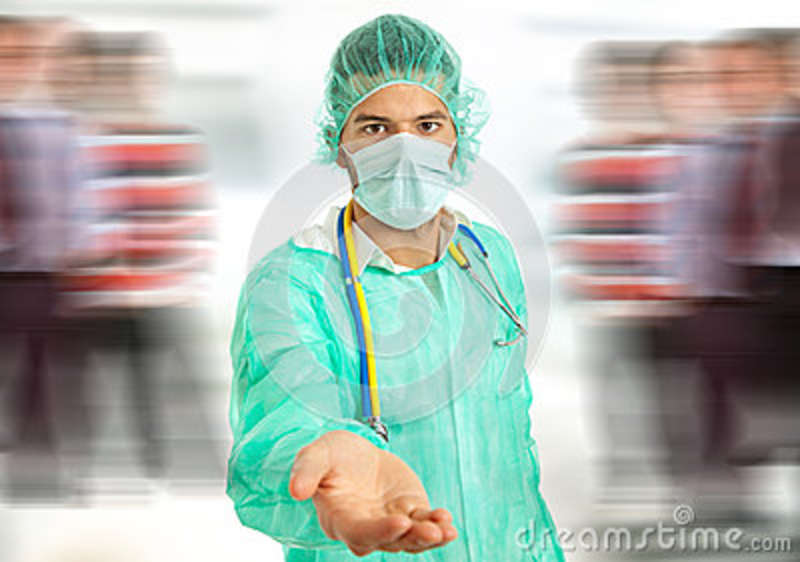mask: (344, 138, 453, 228)
